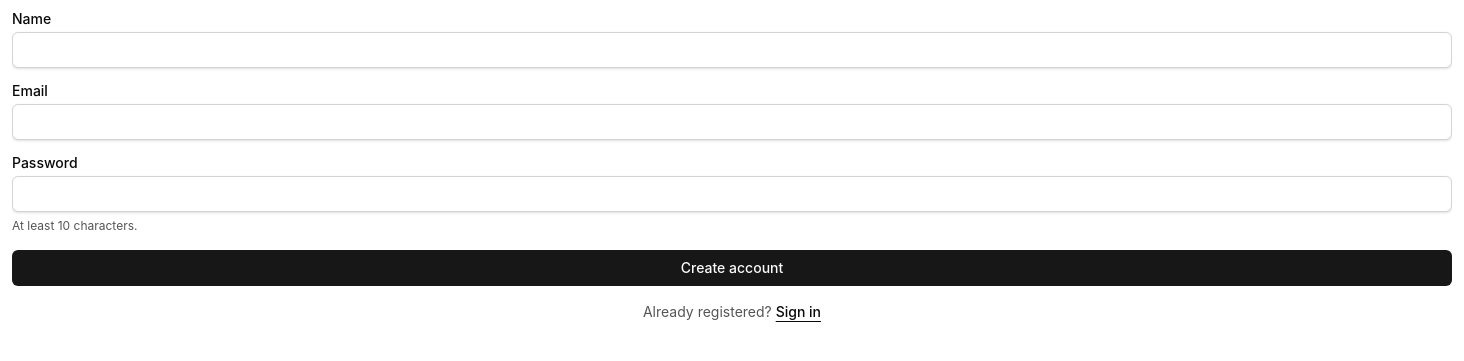
Scenario: RegisterForm › requires a long enough password
Type "Ada" into the field labelled "Name". click: (732, 50)
box: [12, 32, 1452, 68]
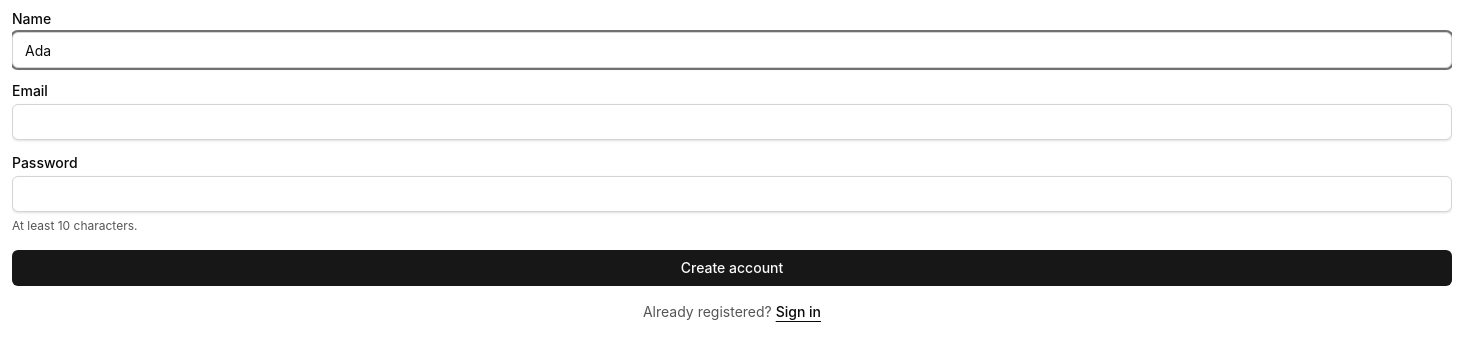
Type "ada@example.com" into the field labelled "Email". click: (732, 122)
box: [12, 104, 1452, 140]
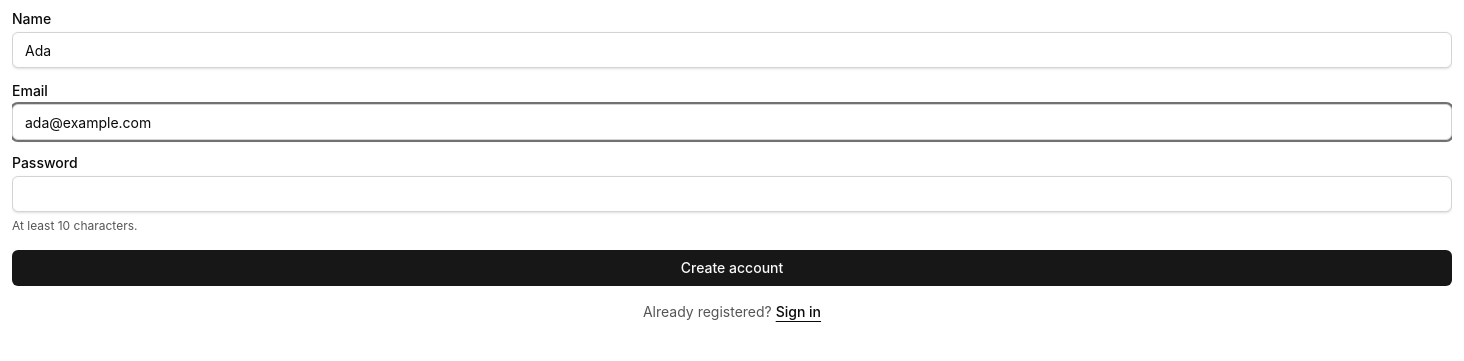
Type "short" into the password field labelled "Password". click: (732, 194)
box: [12, 176, 1452, 212]
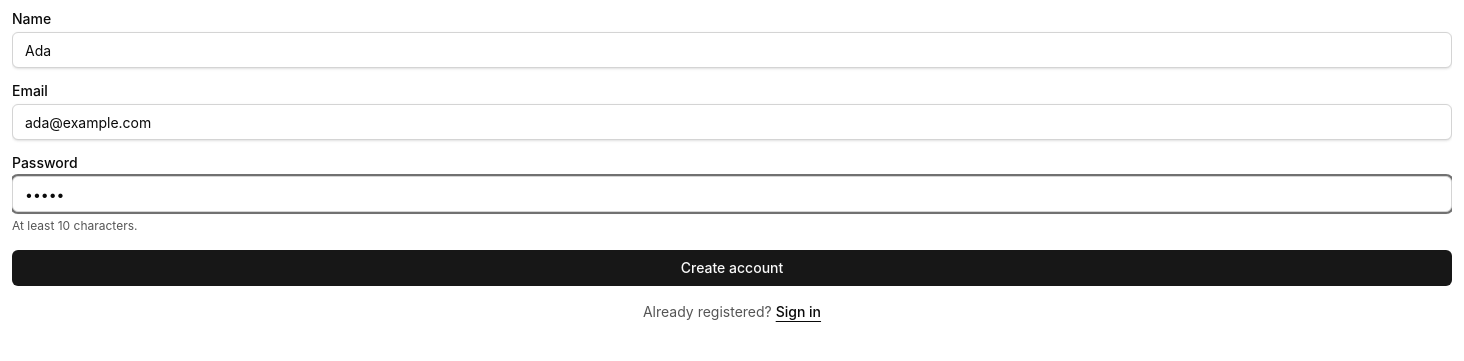
Click the button "Create account". click: (732, 268)
box: [12, 250, 1452, 286]
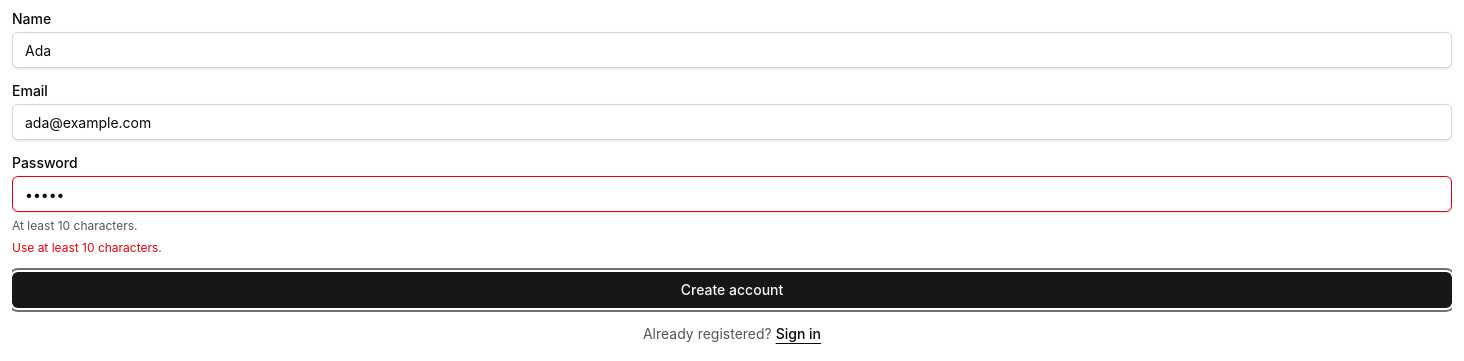
Result: the text "Use at least 10 characters." is shown at [12, 240, 162, 255]
